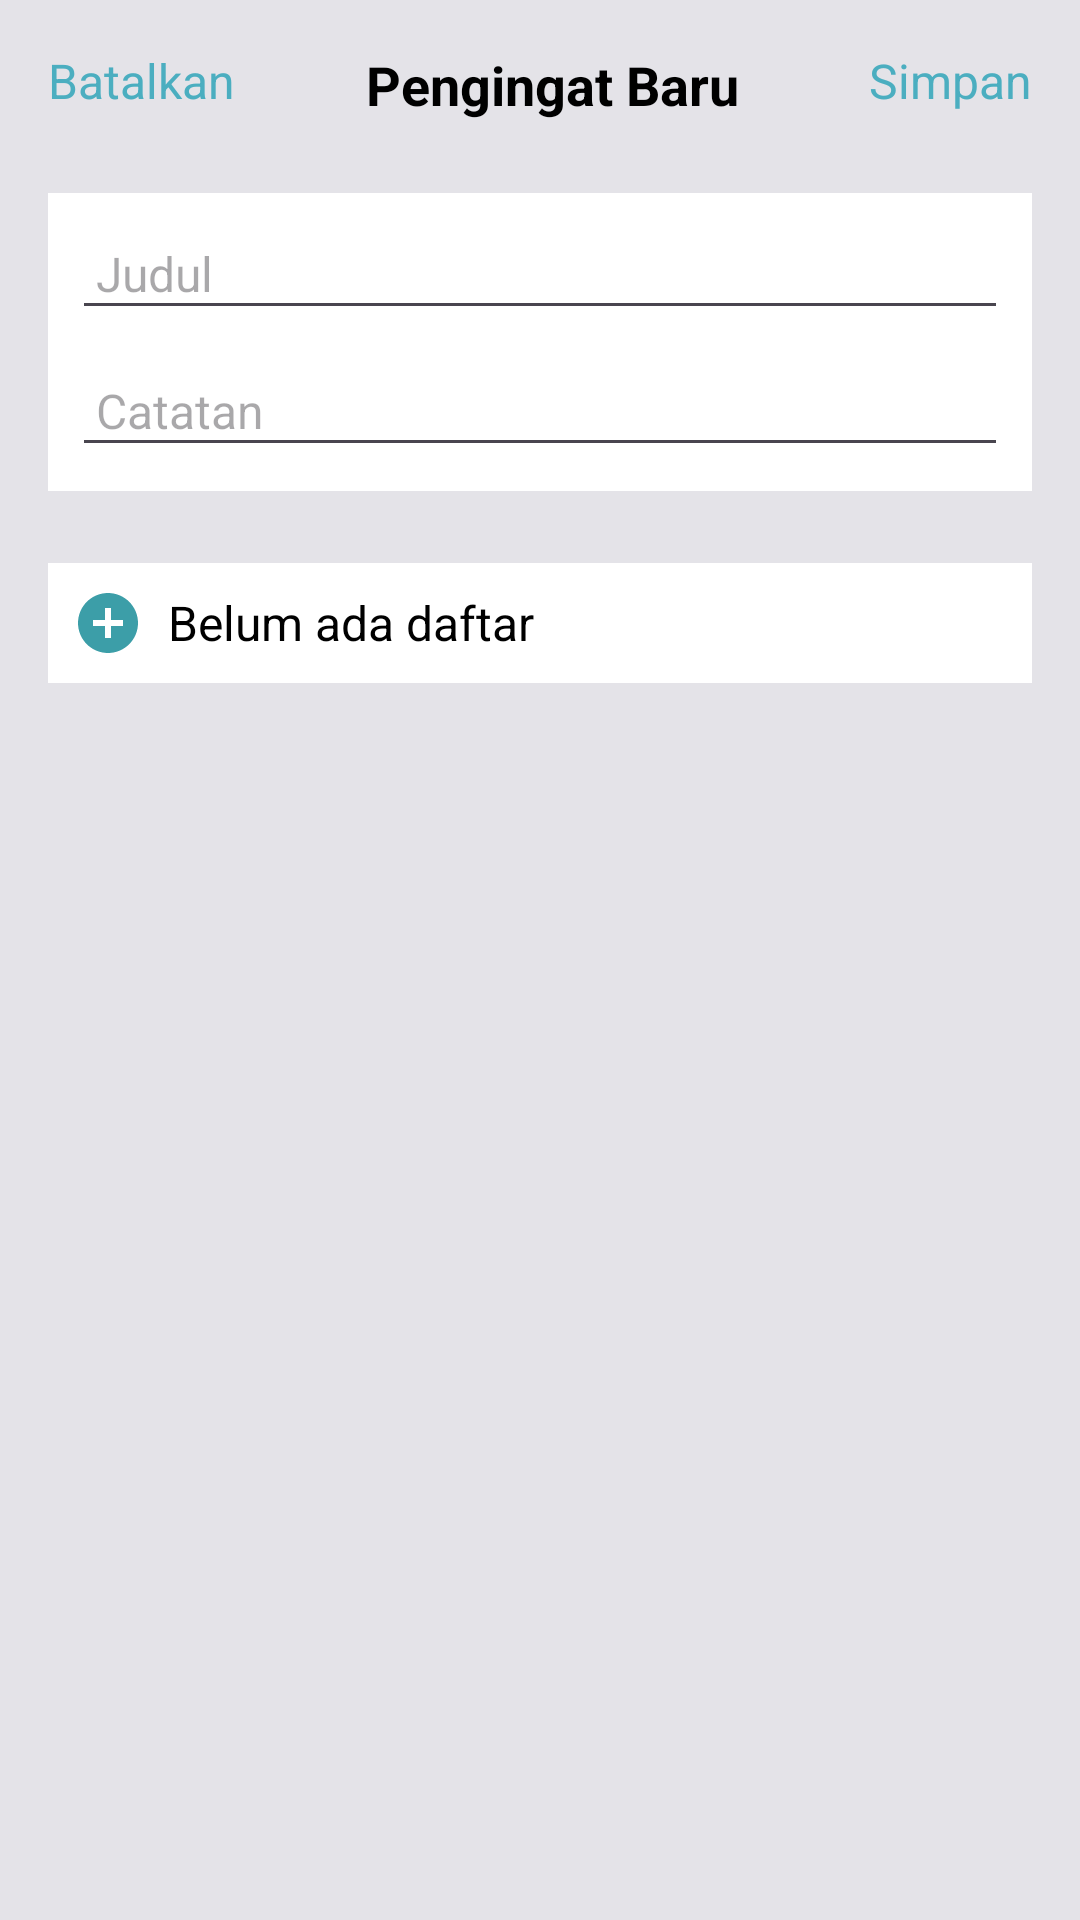

Icon bounding boxes for this 1080px x 1920px phone screenshot, format {"left": x1, "top": y1, "right": x2, "bottom": y2}:
add: {"left": 78, "top": 593, "right": 138, "bottom": 653}
